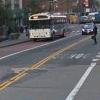Bus: (27, 9, 74, 45)
